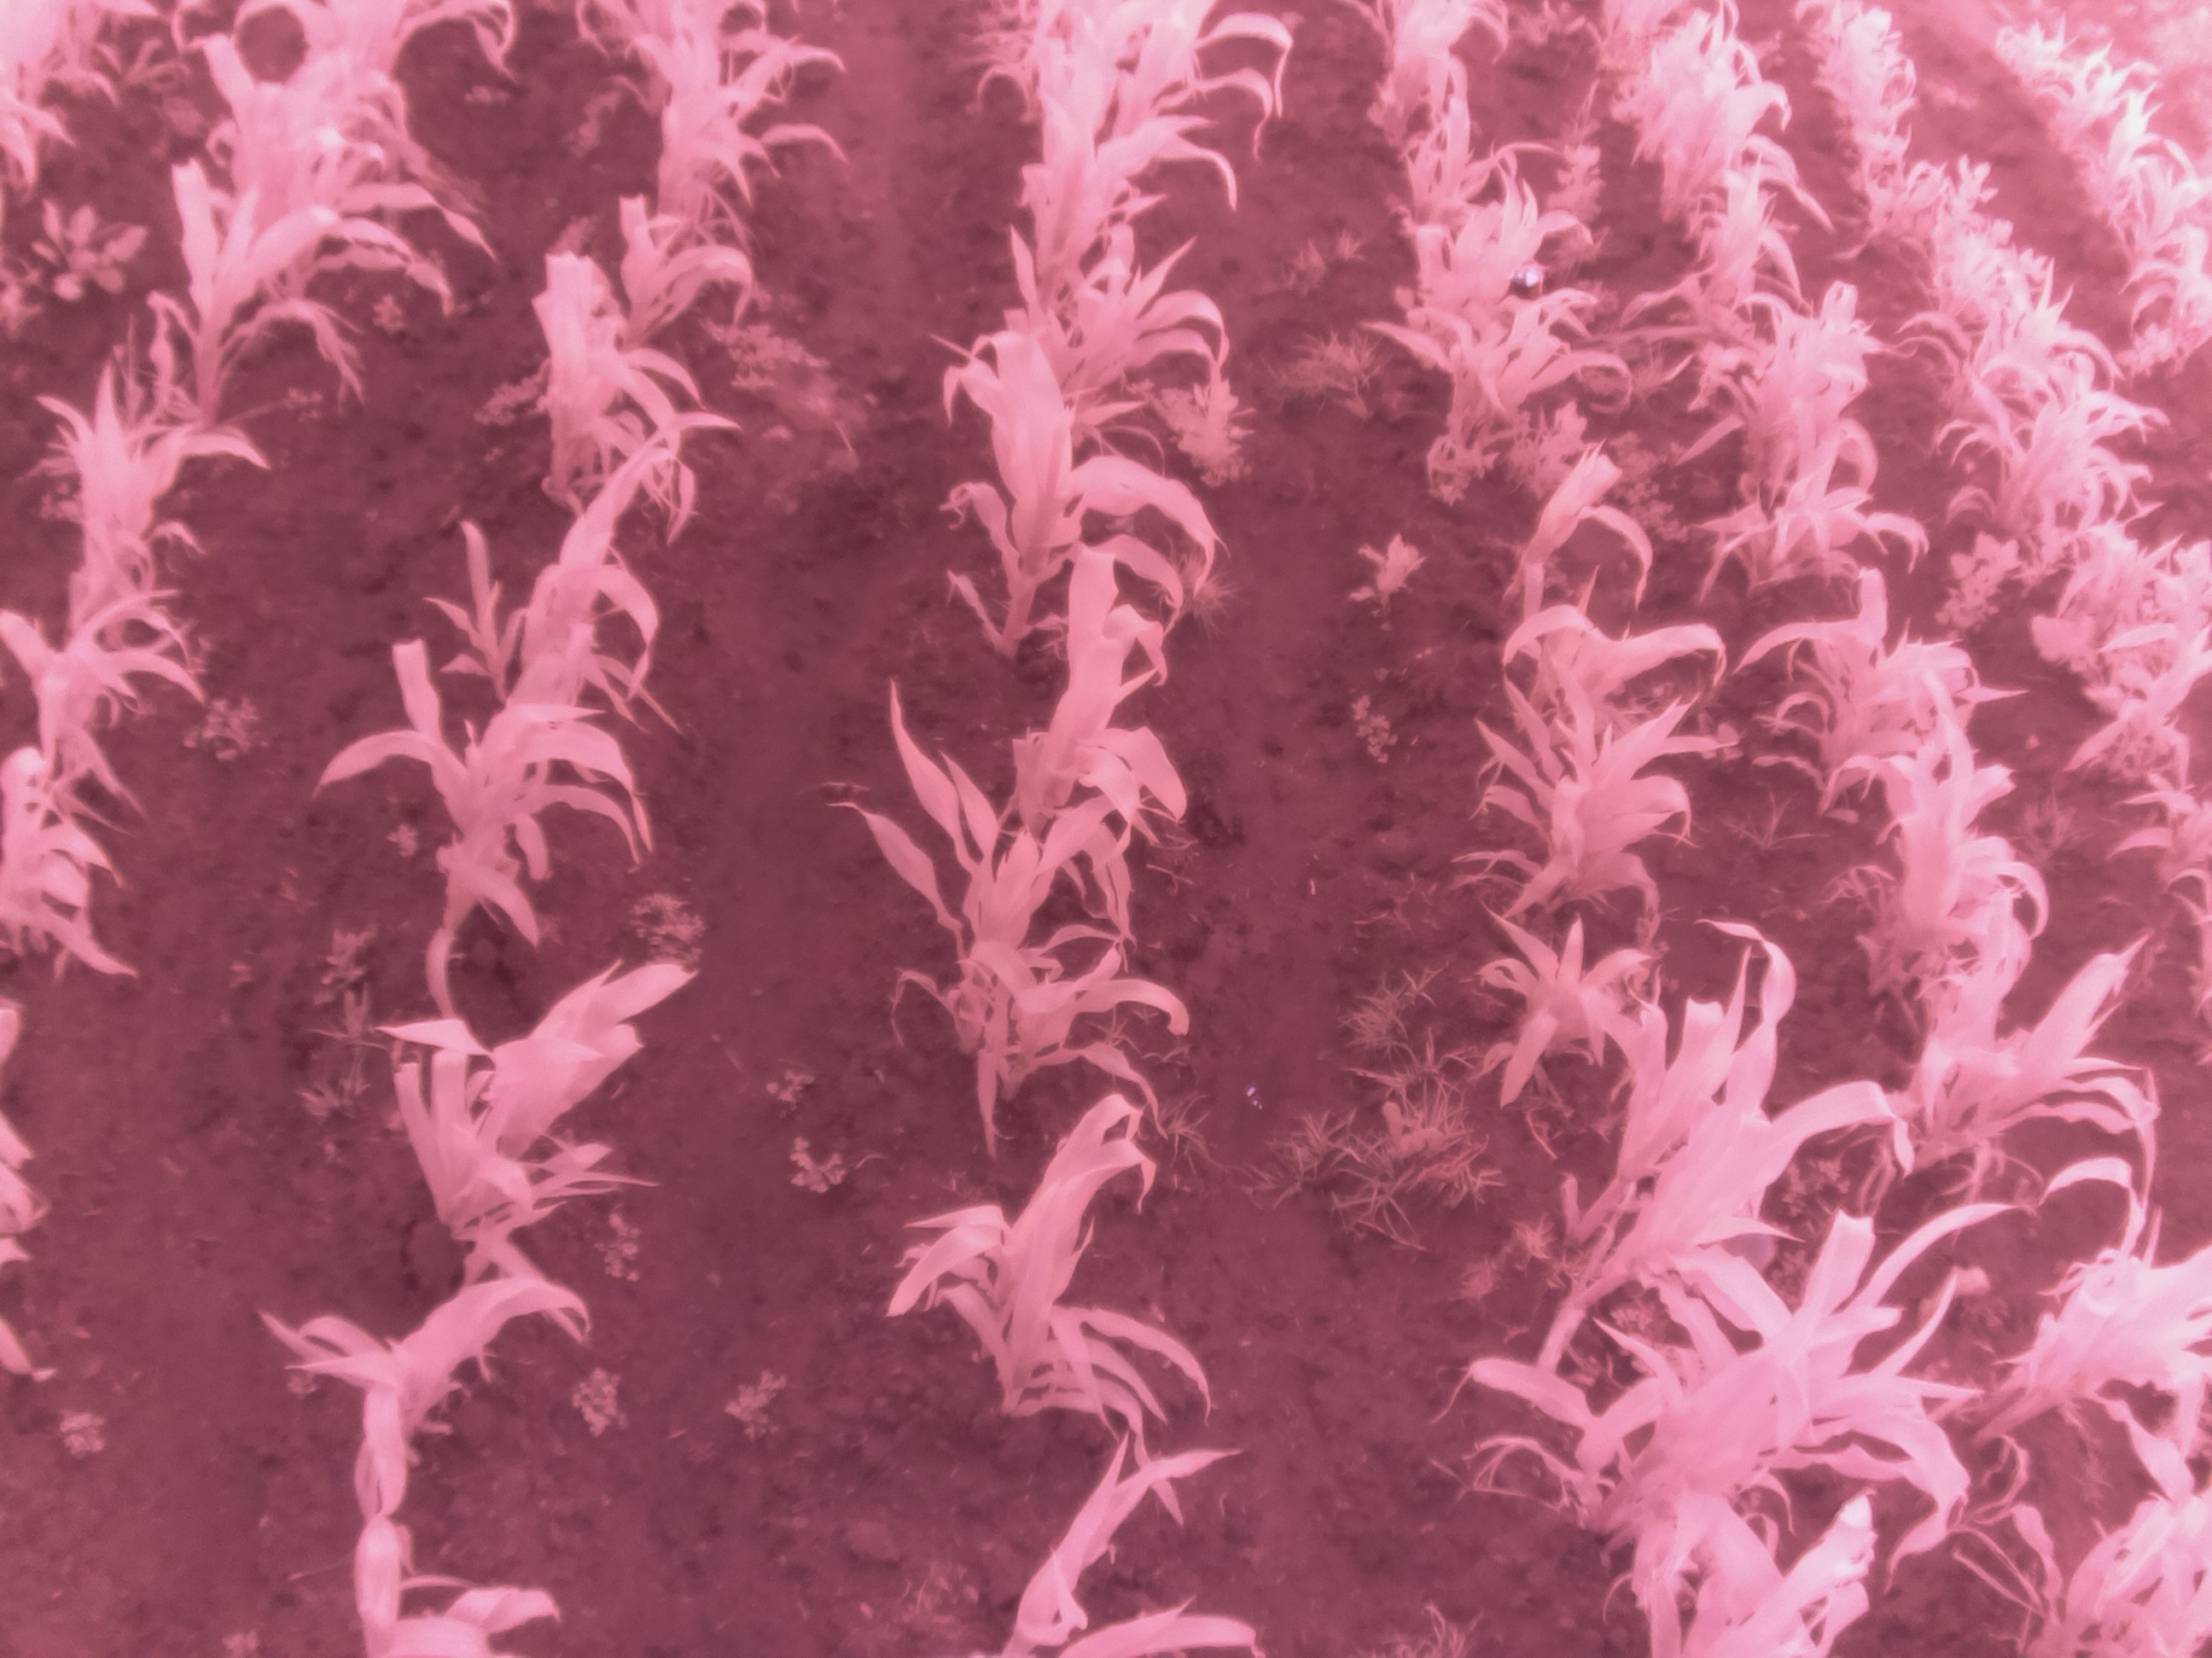Maiz: (1536, 1191, 2022, 1567), (1580, 940, 1905, 1315), (853, 730, 1183, 1094), (880, 1094, 1224, 1437), (946, 258, 1219, 655), (314, 613, 641, 930), (327, 954, 686, 1240), (1876, 914, 2182, 1188), (1008, 486, 1197, 918), (449, 479, 711, 778), (1325, 270, 1656, 489), (17, 352, 266, 637), (225, 1287, 597, 1477), (1008, 59, 1249, 350), (1752, 583, 2001, 855), (995, 209, 1214, 503), (120, 132, 341, 423), (270, 1472, 604, 1658), (1484, 629, 1693, 925), (495, 230, 702, 528), (1512, 585, 1742, 846), (989, 1433, 1256, 1658), (1834, 704, 2048, 981), (226, 0, 482, 225), (1022, 0, 1268, 228), (179, 28, 415, 263), (1707, 247, 1900, 507), (2015, 1184, 2212, 1439), (1592, 1486, 1872, 1658), (0, 571, 206, 806), (622, 5, 812, 254), (1465, 890, 1686, 1094), (1609, 45, 1796, 265), (1946, 357, 2139, 566), (1963, 233, 2116, 479), (1392, 84, 1564, 287), (1413, 165, 1568, 388), (1709, 437, 1933, 590), (1656, 145, 1794, 394), (3, 738, 145, 975), (577, 176, 747, 367), (2043, 1463, 2212, 1655), (1508, 428, 1665, 625), (2099, 627, 2212, 826), (1914, 179, 2036, 348), (1608, 0, 1742, 143), (2066, 516, 2172, 679), (1346, 0, 1496, 111), (1848, 124, 1966, 259), (2120, 770, 2212, 927), (1843, 33, 1926, 206), (2127, 125, 2212, 273), (2104, 92, 2182, 219), (2060, 47, 2146, 162), (2137, 226, 2212, 352), (1987, 16, 2087, 96)
